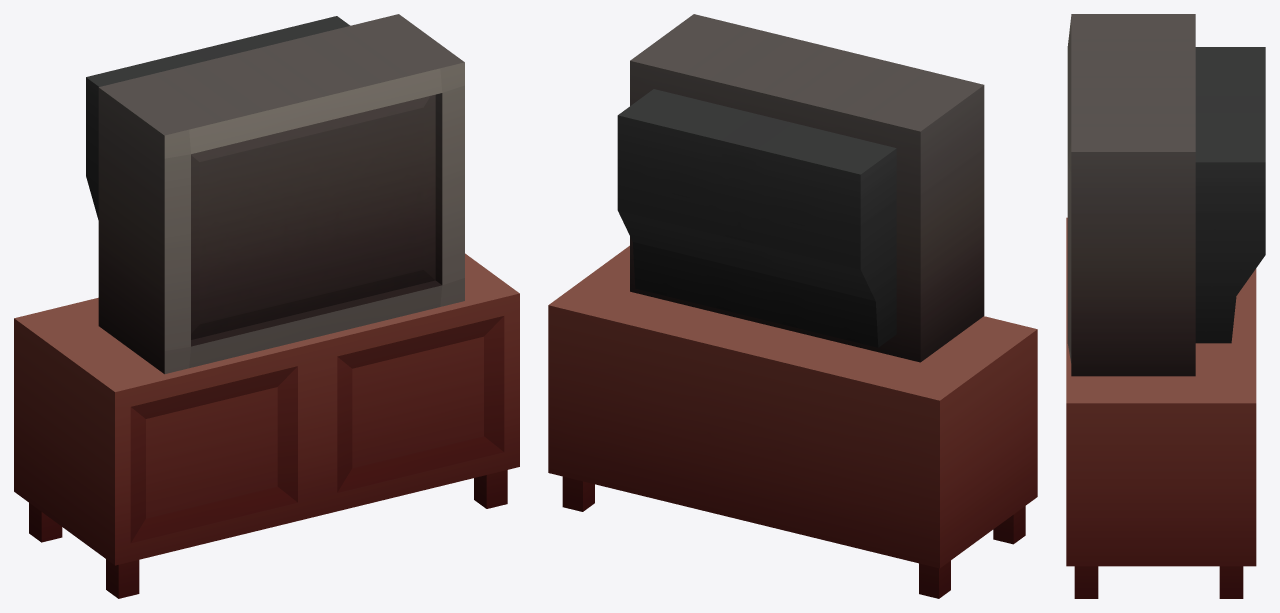
3 renders of one model, left to right at view 1: azimuth 30°, elevation 25°; view 2: azimuth 150°, elevation 25°; view 3: azimuth 270°, elevation 25°, orthographic. The views are drawn at different scales.
Visible parts, largest first — view 1: SM_TV_01; view 2: SM_TV_01; view 3: SM_TV_01.
Boxes of the visible parts, bbox=[...] form: SM_TV_01: bbox=[14, 14, 519, 598]; SM_TV_01: bbox=[548, 14, 1037, 598]; SM_TV_01: bbox=[1066, 14, 1265, 598].
Size of the model in its own units: 1.18 by 1.26 by 0.5336.
